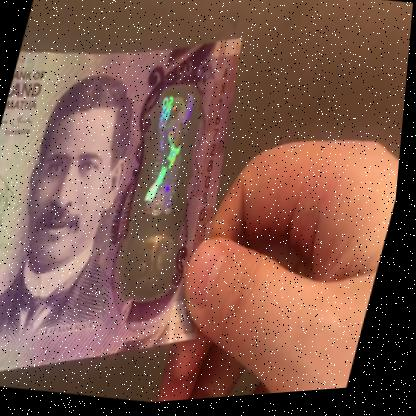50F: (118, 87, 217, 292)
